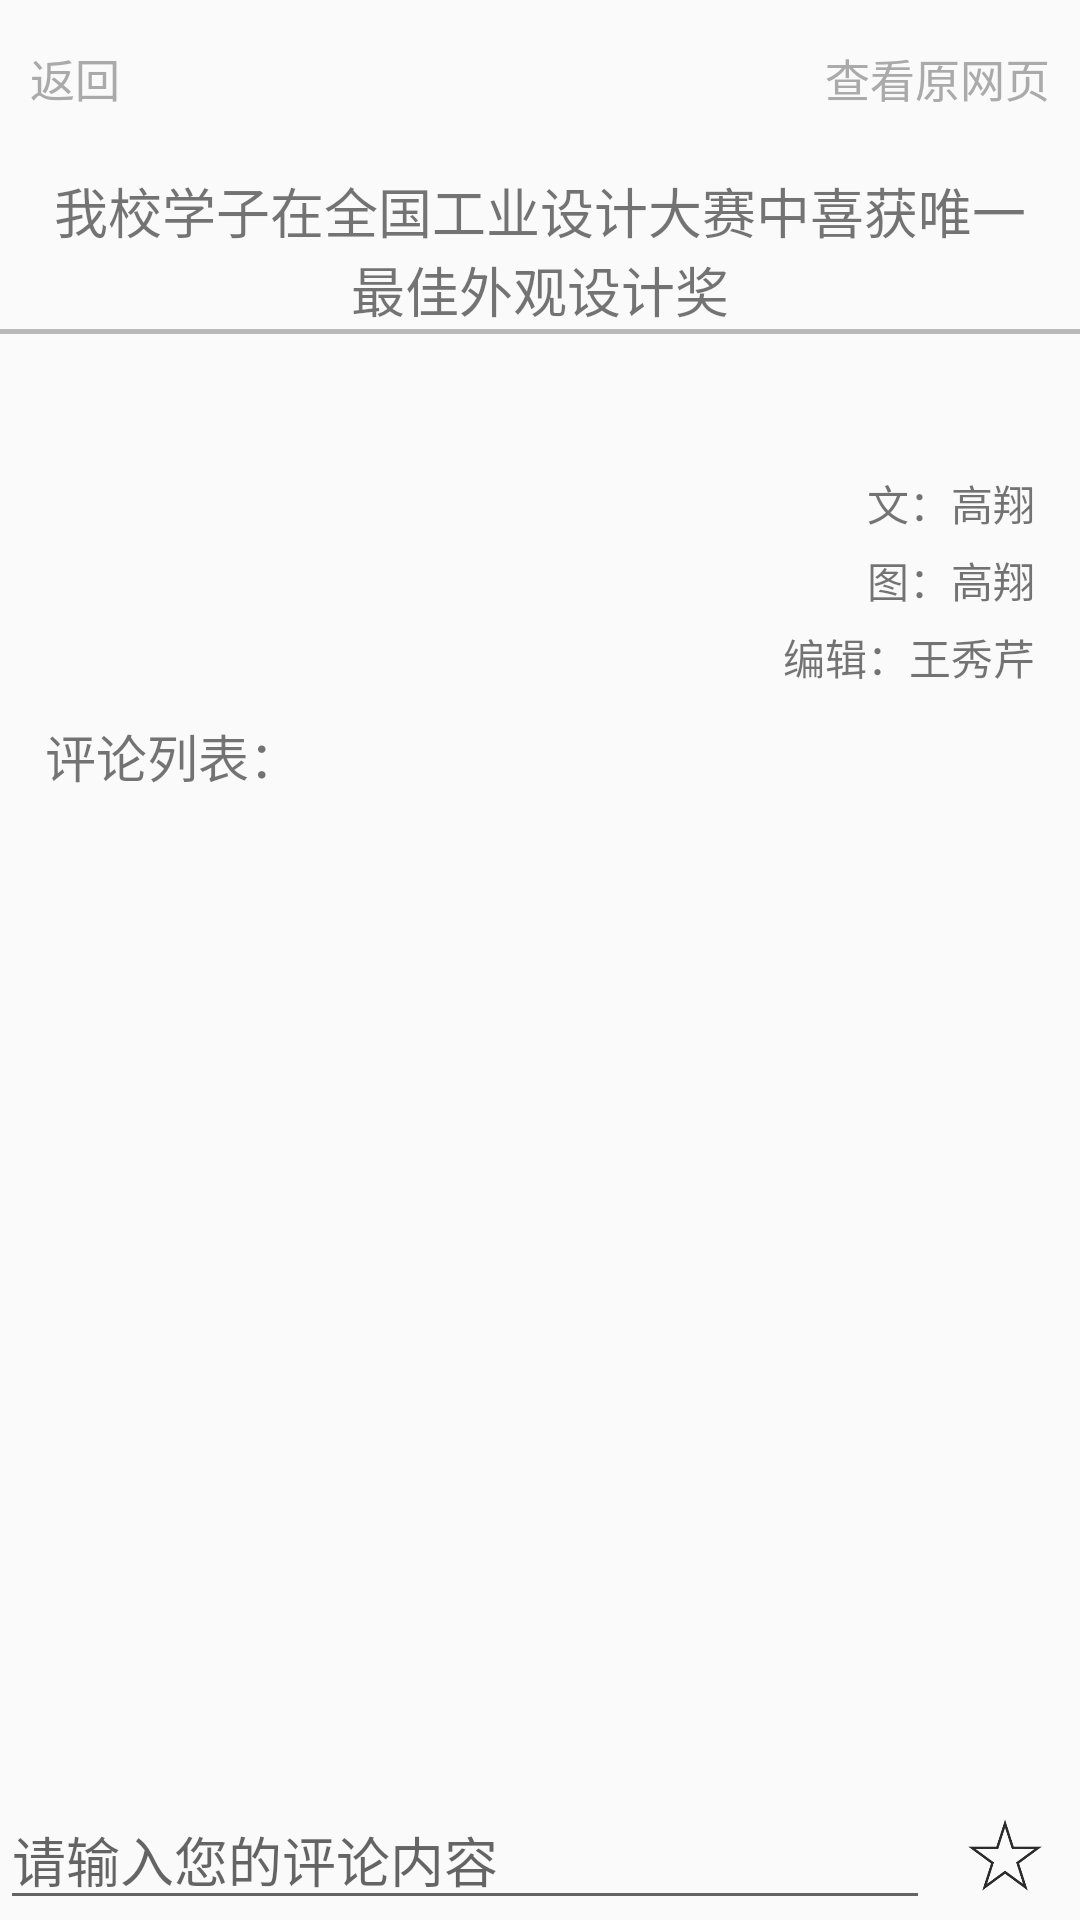

Point at icon controls on the screen. Image size 1080w x 1920h, points as [x,y].
collect: [1005,1855]
